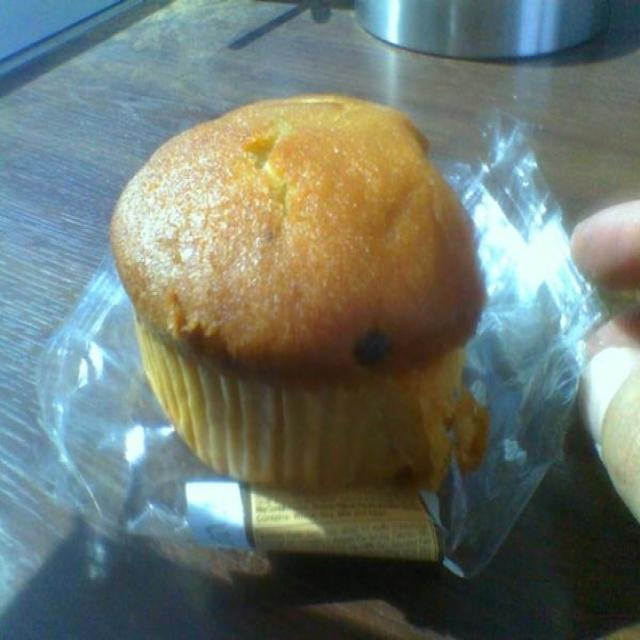炸货点心: (84, 77, 504, 533)
面包点心: (84, 77, 504, 533)
